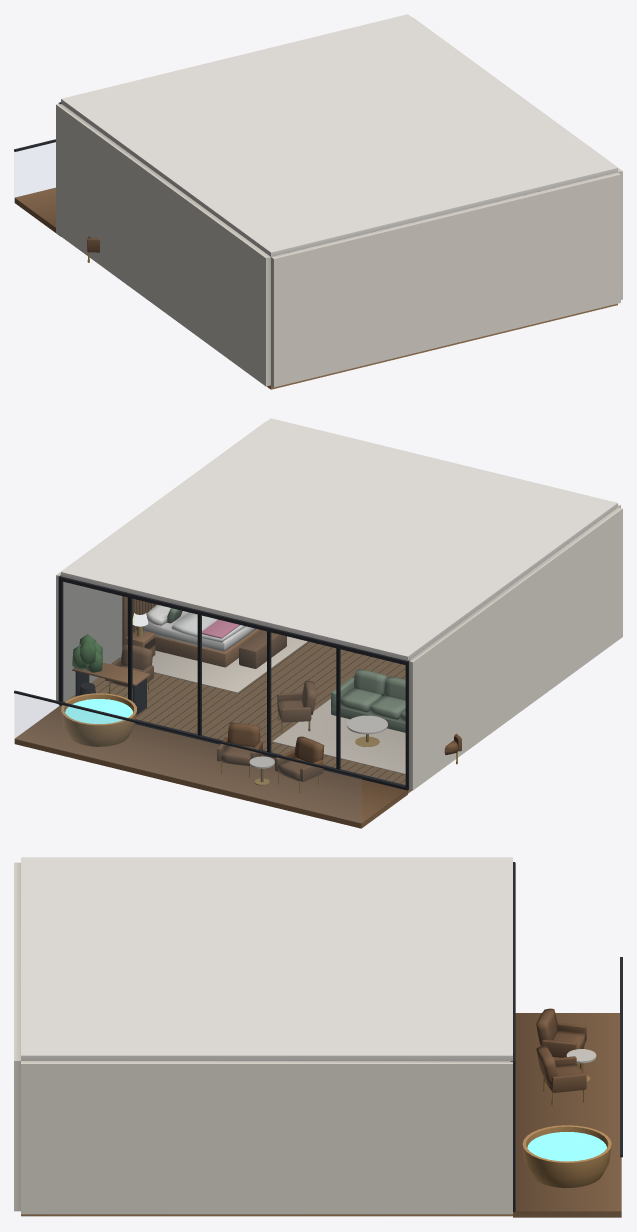
The model's file is kw-onsen.glb.
3 renders of one model, top to bottom at view 1: azimuth 30°, elevation 25°; view 2: azimuth 150°, elevation 25°; view 3: azimuth 270°, elevation 25°, orthographic. The views are drawn at different scales.
Visible parts, largest first — view 1: Room_wall, Room_ceiling, Room_glass, Room_deck, Room_floor; view 2: Room_ceiling, Room_glass, Room_wall, Room_deck, Room_floor, Room_frameDark, Room_rug, Room_fabric2, Room_fabric, Room_wood, Room_hinoki, Room_woodDark (+6 smaller); view 3: Room_ceiling, Room_wall, Room_deck, Room_fabric2, Room_hinoki, Room_water, Room_frameDark, Room_floor.
Boxes of the visible parts, x1,y1,x2,y2 form: Room_wall: (56,17,622,387); Room_ceiling: (61,14,617,256); Room_glass: (15,143,55,196); Room_deck: (14,187,60,236); Room_floor: (267,303,617,389); Room_ceiling: (61,418,617,660); Room_glass: (15,582,404,822); Room_wall: (56,421,622,790); Room_deck: (14,706,407,828); Room_floor: (65,641,411,793); Room_frameDark: (14,575,409,790); Room_rug: (152,636,405,774); Room_fabric2: (105,630,461,781); Room_fabric: (167,608,405,732); Room_wood: (72,597,262,685); Room_hinoki: (61,693,136,746); Room_woodDark: (95,637,405,783); Room_ceiling: (21,857,512,1060); Room_wall: (14,862,512,1214); Room_deck: (513,1013,621,1217); Room_fabric2: (536,1008,586,1092); Room_hinoki: (522,1125,611,1187); Room_water: (527,1132,606,1161); Room_frameDark: (510,862,622,1211); Room_floor: (21,1214,512,1216).
Bounding box in the file's own units: 8.65 × 3.12 × 10.64.
